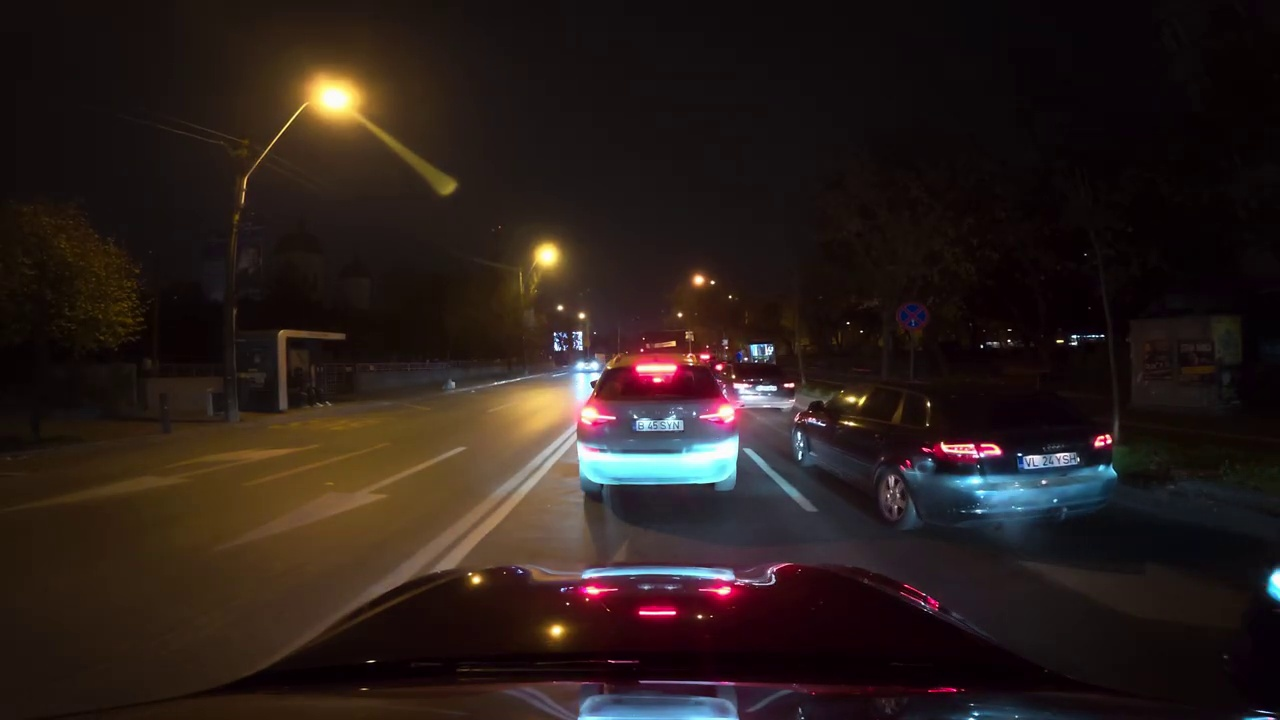acesa: (303, 74, 361, 129), (530, 241, 563, 272), (688, 269, 712, 293)
